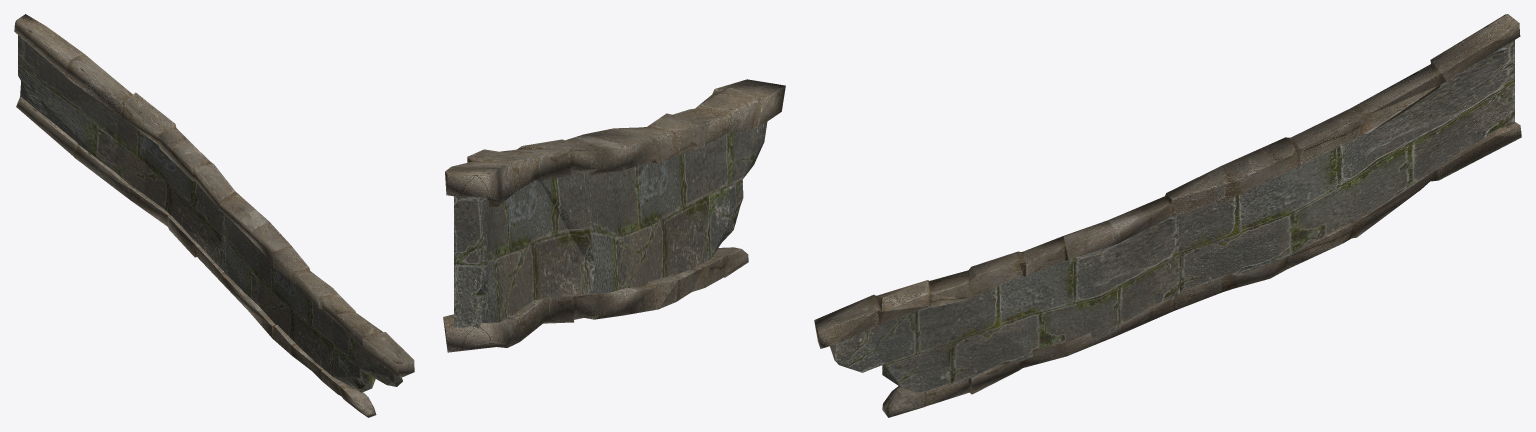
File: bg_anh_gvalley_sa01_07_sm_cwk.FBX
3 renders of one model, left to right at view 1: azimuth 30°, elevation 25°; view 2: azimuth 150°, elevation 25°; view 3: azimuth 270°, elevation 25°, orthographic. The views are drawn at different scales.
Visible parts, largest first — view 1: bg_anh_gvalley_sa01_07_sm_cwk; view 2: bg_anh_gvalley_sa01_07_sm_cwk; view 3: bg_anh_gvalley_sa01_07_sm_cwk.
Boxes of the visible parts, x1,y1,x2,y2 form: bg_anh_gvalley_sa01_07_sm_cwk: (14,14,414,417); bg_anh_gvalley_sa01_07_sm_cwk: (443,79,785,352); bg_anh_gvalley_sa01_07_sm_cwk: (814,14,1521,417).
Bounding box in the file's own units: 240 × 419 × 824.
